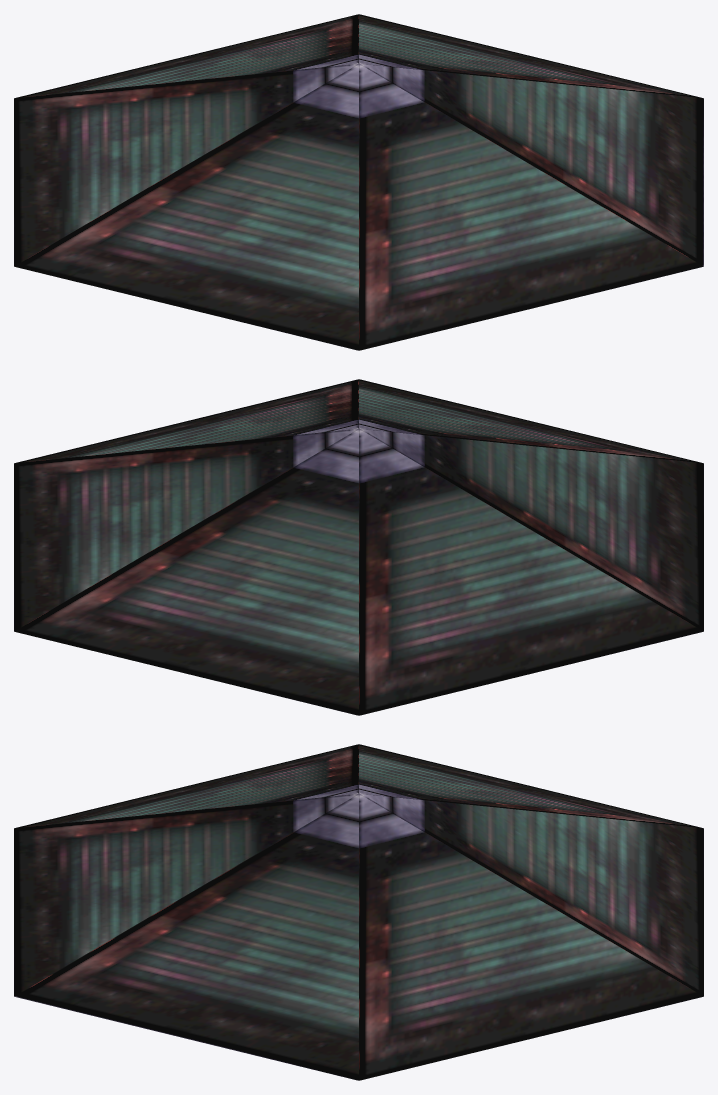
3 views of the same model, one above another, from view 1: azimuth 30°, elevation 25°; view 2: azimuth 150°, elevation 25°; view 3: azimuth 270°, elevation 25° (orthographic).
Visible parts, largest first — view 1: base; view 2: base; view 3: base.
Part boxes in pixels (x1=…): base: x1=14, y1=14, x2=703, y2=350; base: x1=14, y1=379, x2=703, y2=715; base: x1=14, y1=744, x2=703, y2=1080.
Size of the model in its own units: 596 by 97.93 by 516.
Materials: 1 (1 with a texture image).
